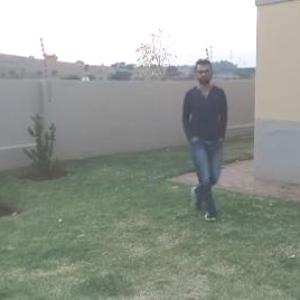follow: (180, 56, 233, 209)
